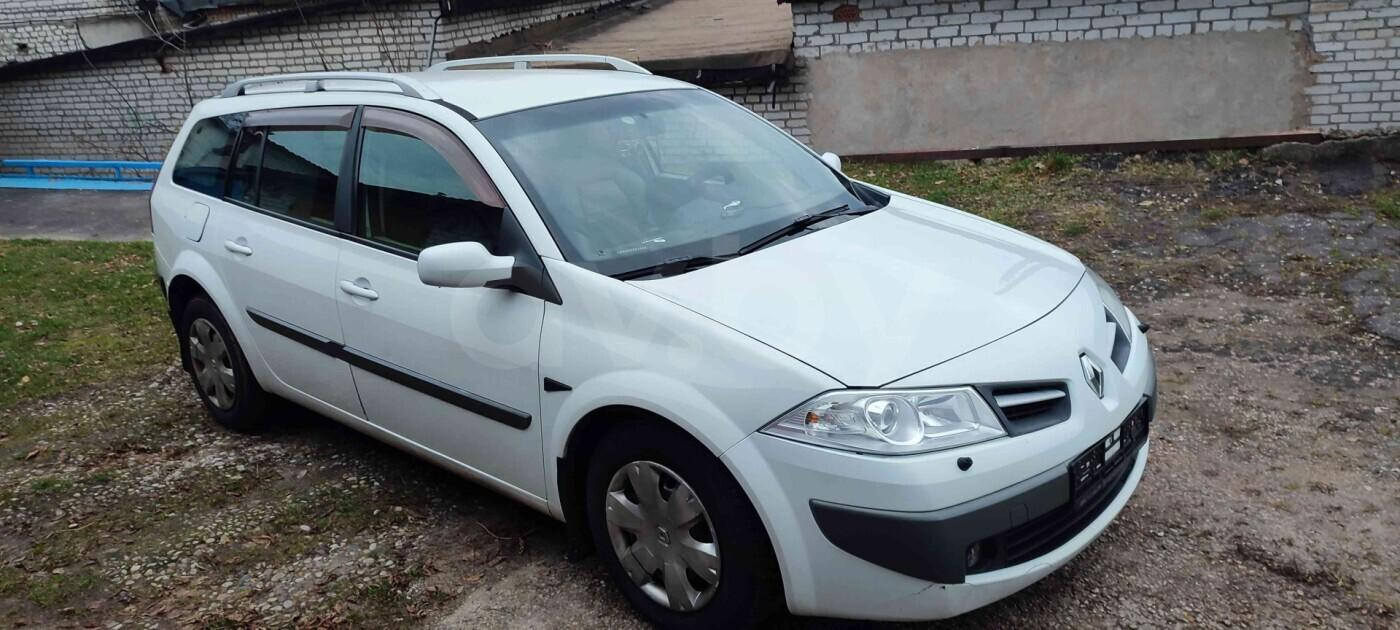Megane_2005-2009: (140, 63, 1166, 630)
